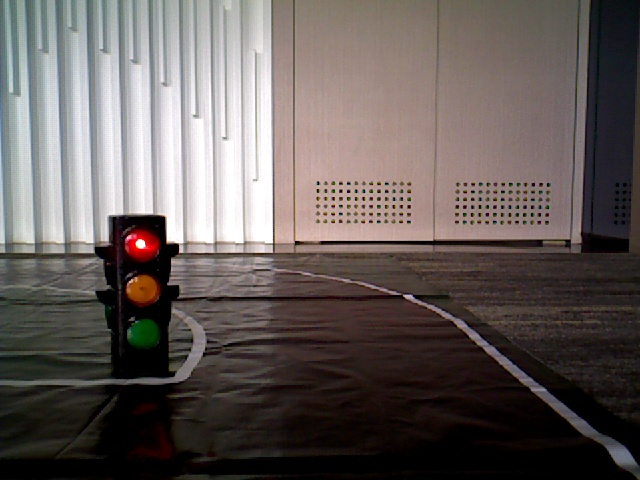red: (110, 221, 167, 363)
